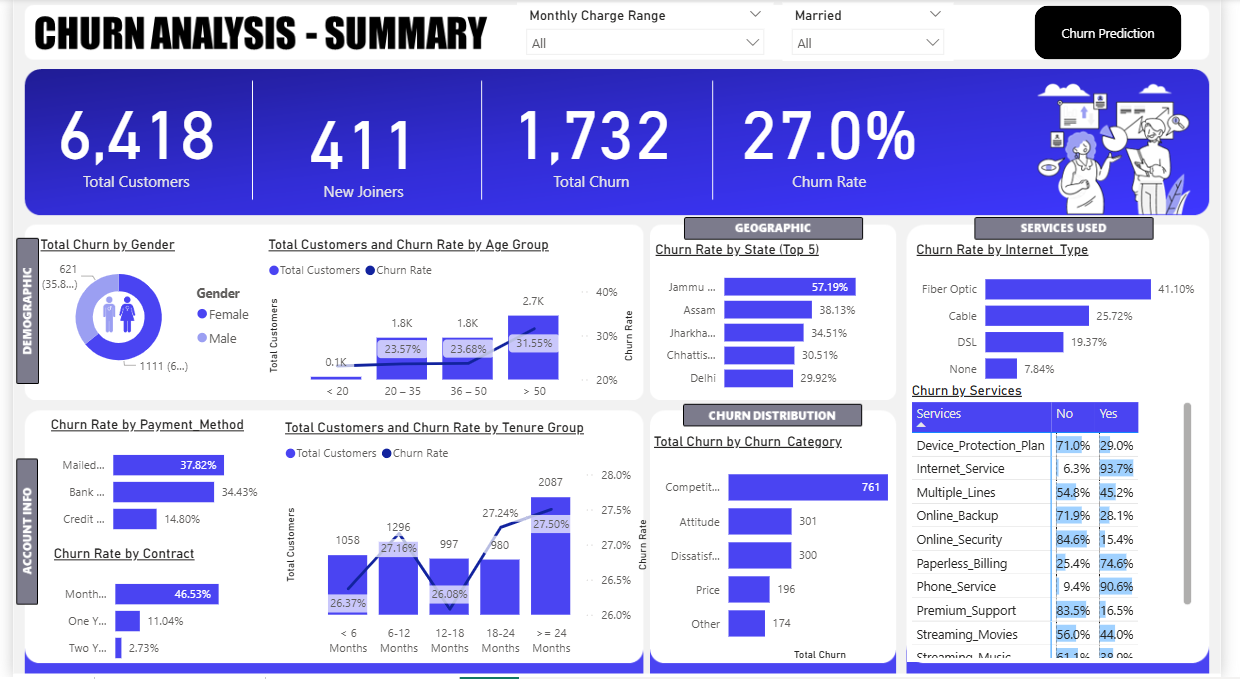

The dashboard page shown, as its layout file describes it:
{"tool":"powerbi","page":{"name":"Summary","canvas":[1280,720],"ordinal":0},"visuals":[{"type":"image","box":[74.8,310.2,76.3,49.3],"z":0},{"type":"card","fields":{"Values":["tbl_Measures.Total Customers"]},"box":[9.5,62,241.8,167],"z":1000},{"type":"card","fields":{"Values":["tbl_Measures.New Joiners"]},"box":[251.3,82.7,240.2,146.3],"z":2000},{"type":"card","fields":{"Values":["tbl_Measures.Total Churn"]},"box":[491.5,62,243.4,167],"z":3000},{"type":"card","fields":{"Values":["tbl_Measures.Churn Rate"]},"box":[734.9,62,260.9,167],"z":4000},{"type":"donutChart","fields":{"Category":["prod_Churn.Gender"],"Y":["tbl_Measures.Total Churn"]},"box":[23.9,252.9,241.8,154.3],"z":5000},{"type":"lineStackedColumnComboChart","fields":{"Category":["mappin_AgeGrp.Age Group"],"Y":["tbl_Measures.Total Customers"],"Y2":["tbl_Measures.Churn Rate"]},"box":[265.6,252.9,397.7,181.3],"z":6000},{"type":"clusteredBarChart","fields":{"Category":["prod_Churn.Payment_Method"],"Y":["tbl_Measures.Churn Rate"]},"box":[35,443.8,230.6,136.8],"z":7000},{"type":"clusteredBarChart","fields":{"Category":["prod_Churn.Contract"],"Y":["tbl_Measures.Churn Rate"]},"box":[38.2,580.6,227.5,136.8],"z":8000},{"type":"lineStackedColumnComboChart","fields":{"Category":["mapping_TenureGrp.Tenure Group"],"Y":["tbl_Measures.Total Customers"],"Y2":["tbl_Measures.Churn Rate"]},"box":[283.1,447,394.5,257.7],"z":9000},{"type":"clusteredBarChart","title":"Churn Rate by State (Top 5)","fields":{"Category":["prod_Churn.State"],"Y":["tbl_Measures.Churn Rate"]},"box":[676,257.7,260.3,170.2],"z":10000},{"type":"clusteredBarChart","fields":{"Category":["prod_Churn.Churn_Category"],"Y":["tbl_Measures.Total Churn"]},"box":[674.9,460.7,283.1,245],"z":11000},{"type":"clusteredBarChart","fields":{"Category":["prod_Churn.Internet_Type"],"Y":["tbl_Measures.Churn Rate"]},"box":[952.8,257.7,310.7,171.8],"z":12000},{"type":"pivotTable","title":"Churn by Services","fields":{"Rows":["prod_Services.Services"],"Columns":["prod_Services.Status"],"Values":["Sum(prod_Services.Churn Statues)"]},"box":[948,407.2,307,296.9],"z":13000},{"type":"slicer","fields":{"Values":["prod_Services.Monthly Charge Status"]},"box":[534.4,4.8,272,57.3],"z":14000},{"type":"slicer","fields":{"Values":["prod_Services.Married"]},"box":[816,4.8,181.3,62],"z":15000},{"type":"shape","box":[1083.2,8,155.9,57.3],"z":15001}]}

Visuals, with their boxes in screenshot pixels (x1, y1, x2, y2), scaled from the page's 1280x720 canvas onto the 1240x679 screenshot:
image: bbox(72, 293, 146, 339)
card - tbl_Measures.Total Customers: bbox(9, 58, 243, 216)
card - tbl_Measures.New Joiners: bbox(243, 78, 476, 216)
card - tbl_Measures.Total Churn: bbox(476, 58, 712, 216)
card - tbl_Measures.Churn Rate: bbox(712, 58, 965, 216)
donutChart - prod_Churn.Gender x tbl_Measures.Total Churn: bbox(23, 238, 257, 384)
lineStackedColumnComboChart - mappin_AgeGrp.Age Group x tbl_Measures.Total Customers: bbox(257, 238, 643, 409)
clusteredBarChart - prod_Churn.Payment_Method x tbl_Measures.Churn Rate: bbox(34, 419, 257, 548)
clusteredBarChart - prod_Churn.Contract x tbl_Measures.Churn Rate: bbox(37, 548, 257, 677)
lineStackedColumnComboChart - mapping_TenureGrp.Tenure Group x tbl_Measures.Total Customers: bbox(274, 422, 656, 665)
"Churn Rate by State (Top 5)" clusteredBarChart: bbox(655, 243, 907, 404)
clusteredBarChart - prod_Churn.Churn_Category x tbl_Measures.Total Churn: bbox(654, 434, 928, 666)
clusteredBarChart - prod_Churn.Internet_Type x tbl_Measures.Churn Rate: bbox(923, 243, 1224, 405)
"Churn by Services" pivotTable: bbox(918, 384, 1216, 664)
slicer - prod_Services.Monthly Charge Status: bbox(518, 5, 781, 59)
slicer - prod_Services.Married: bbox(790, 5, 966, 63)
shape: bbox(1049, 8, 1200, 62)
